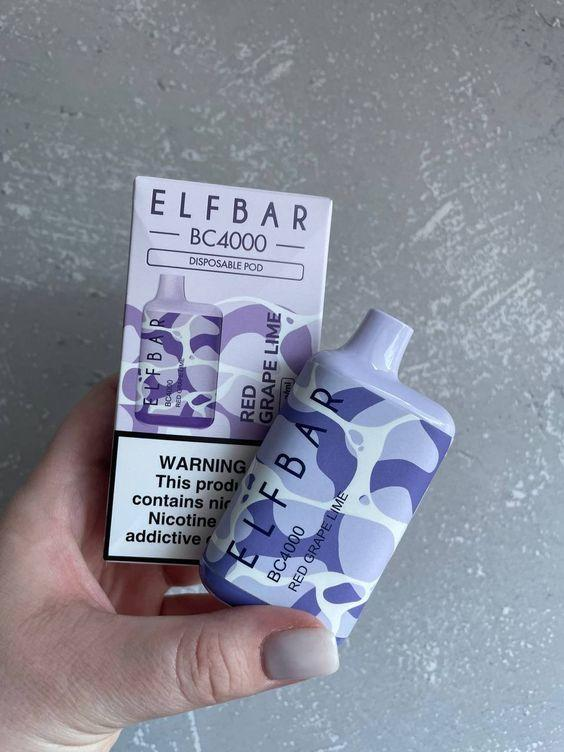Vape: (202, 310, 454, 644)
